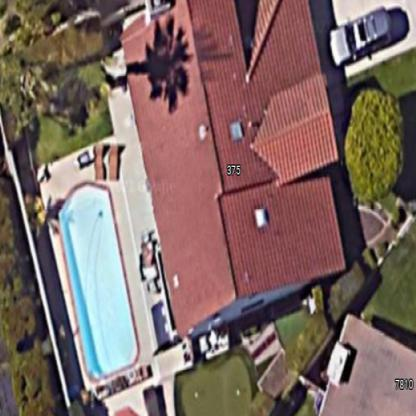pool: (45, 164, 143, 384)
